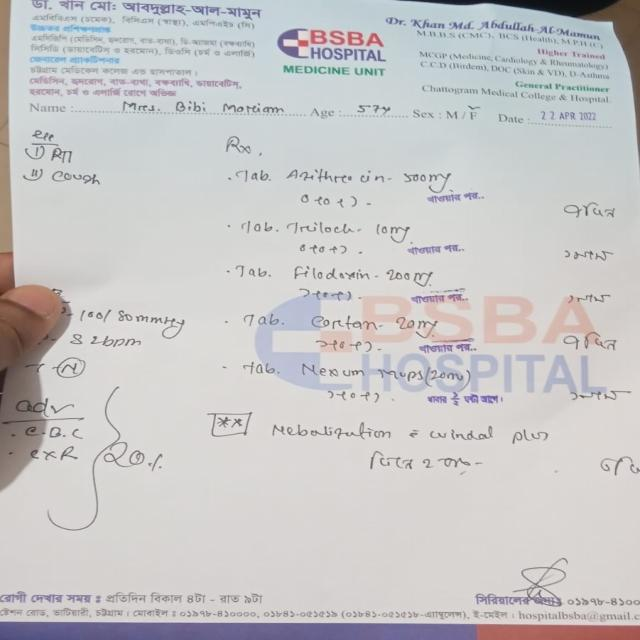Azithrocin: (284, 162, 392, 194)
Cortan: (309, 311, 383, 337)
Filodoxin: (282, 258, 373, 287)
Nexum: (296, 358, 369, 383)
Trilock: (286, 214, 369, 238)
